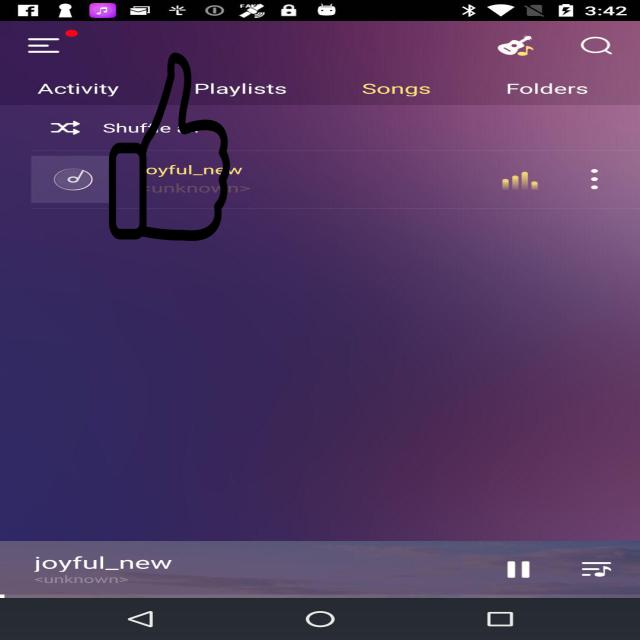privacy zuckering: (107, 53, 232, 241)
